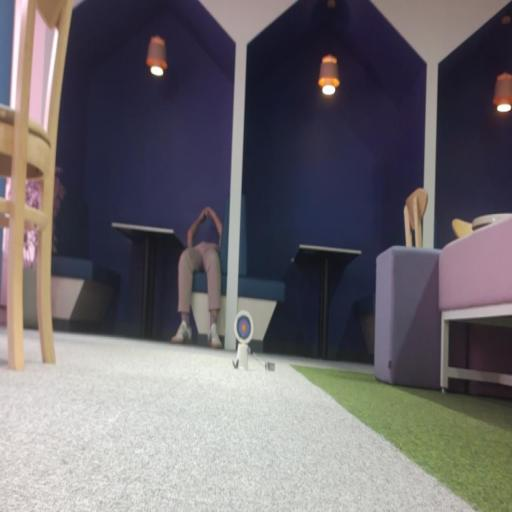target: (234, 311, 253, 343)
